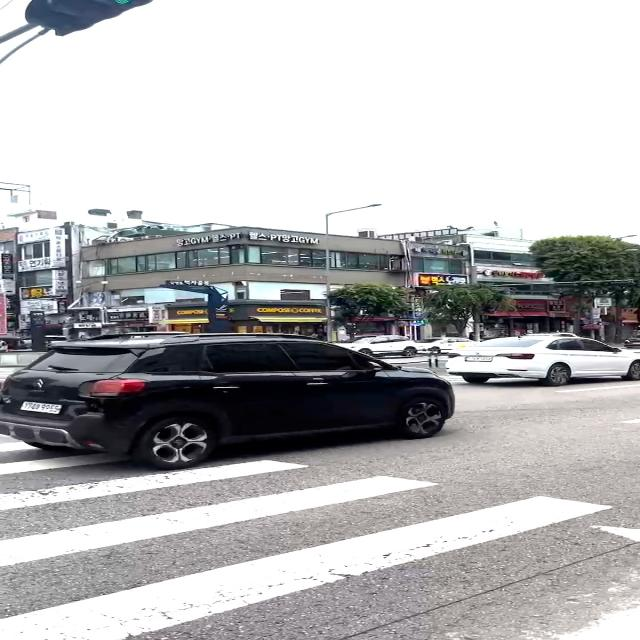building: (69, 223, 410, 341)
car: (0, 331, 455, 469), (444, 332, 639, 386)
